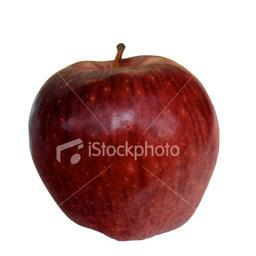apple: (27, 49, 219, 241)
